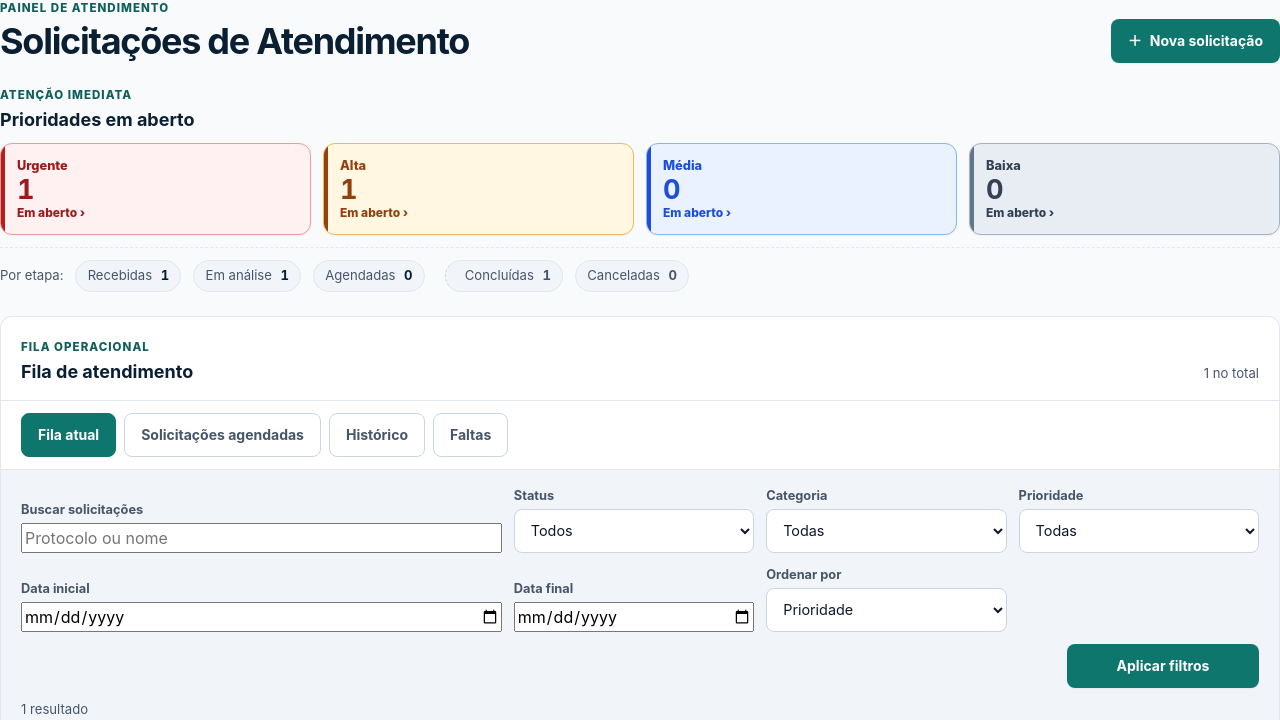
it: SolicitacoesPage › abre o drill-down por status ao clicar em um bloco do andamento da fila
The image size is (1280, 720).
Click the button with aria-label "1 solicitação recebida" at (128, 276), box top-left (75, 260), bottom-right (181, 292)
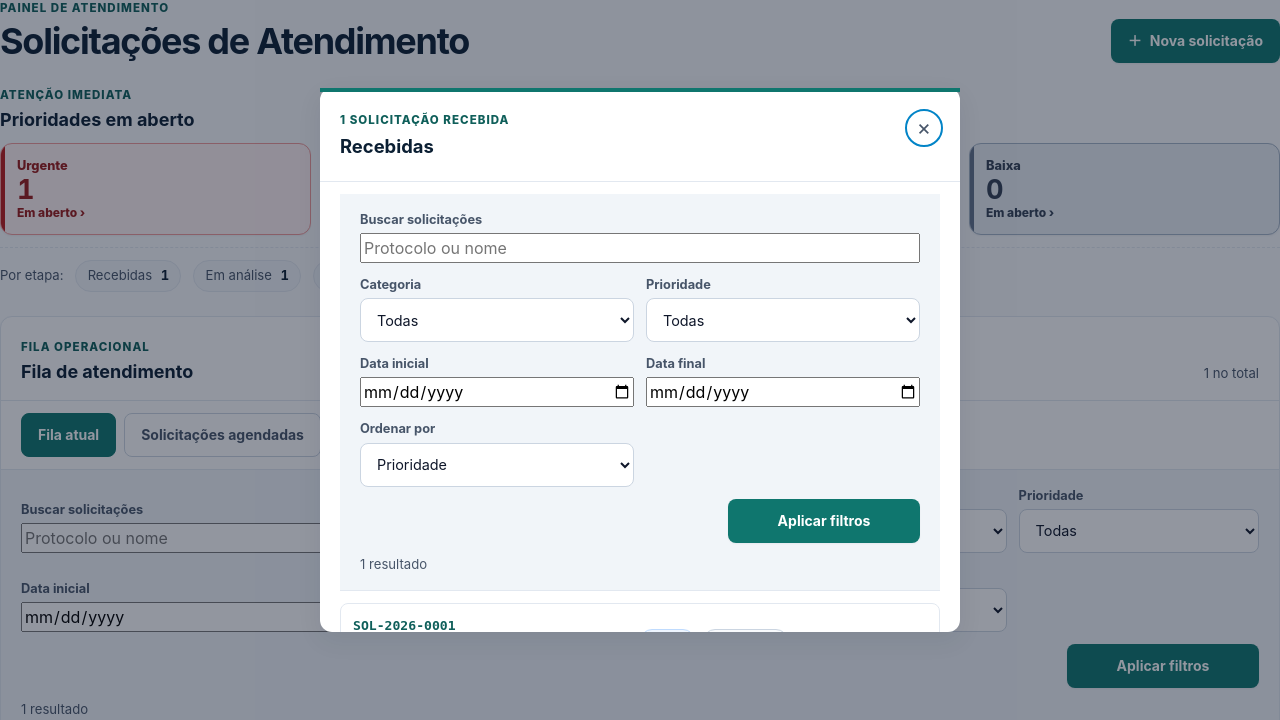
expect the heading "Recebidas" is shown: met, box top-left (340, 135), bottom-right (434, 157)
